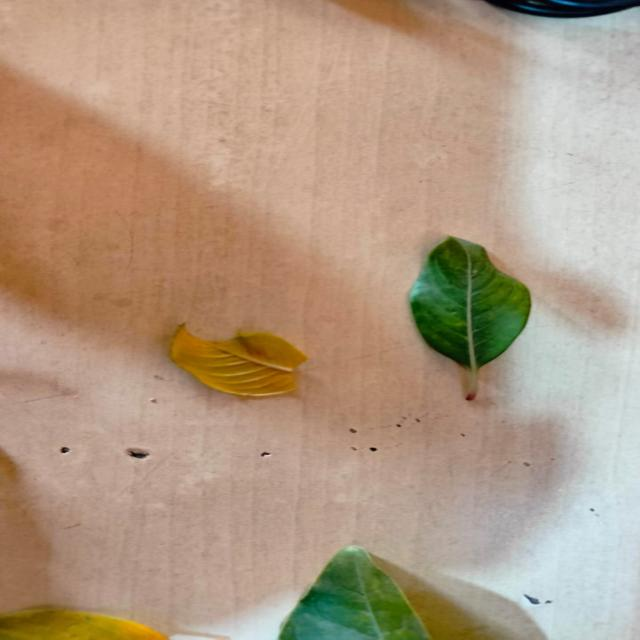Leaves: (405, 238, 533, 402), (275, 545, 464, 640), (166, 326, 309, 402), (0, 594, 182, 640)
